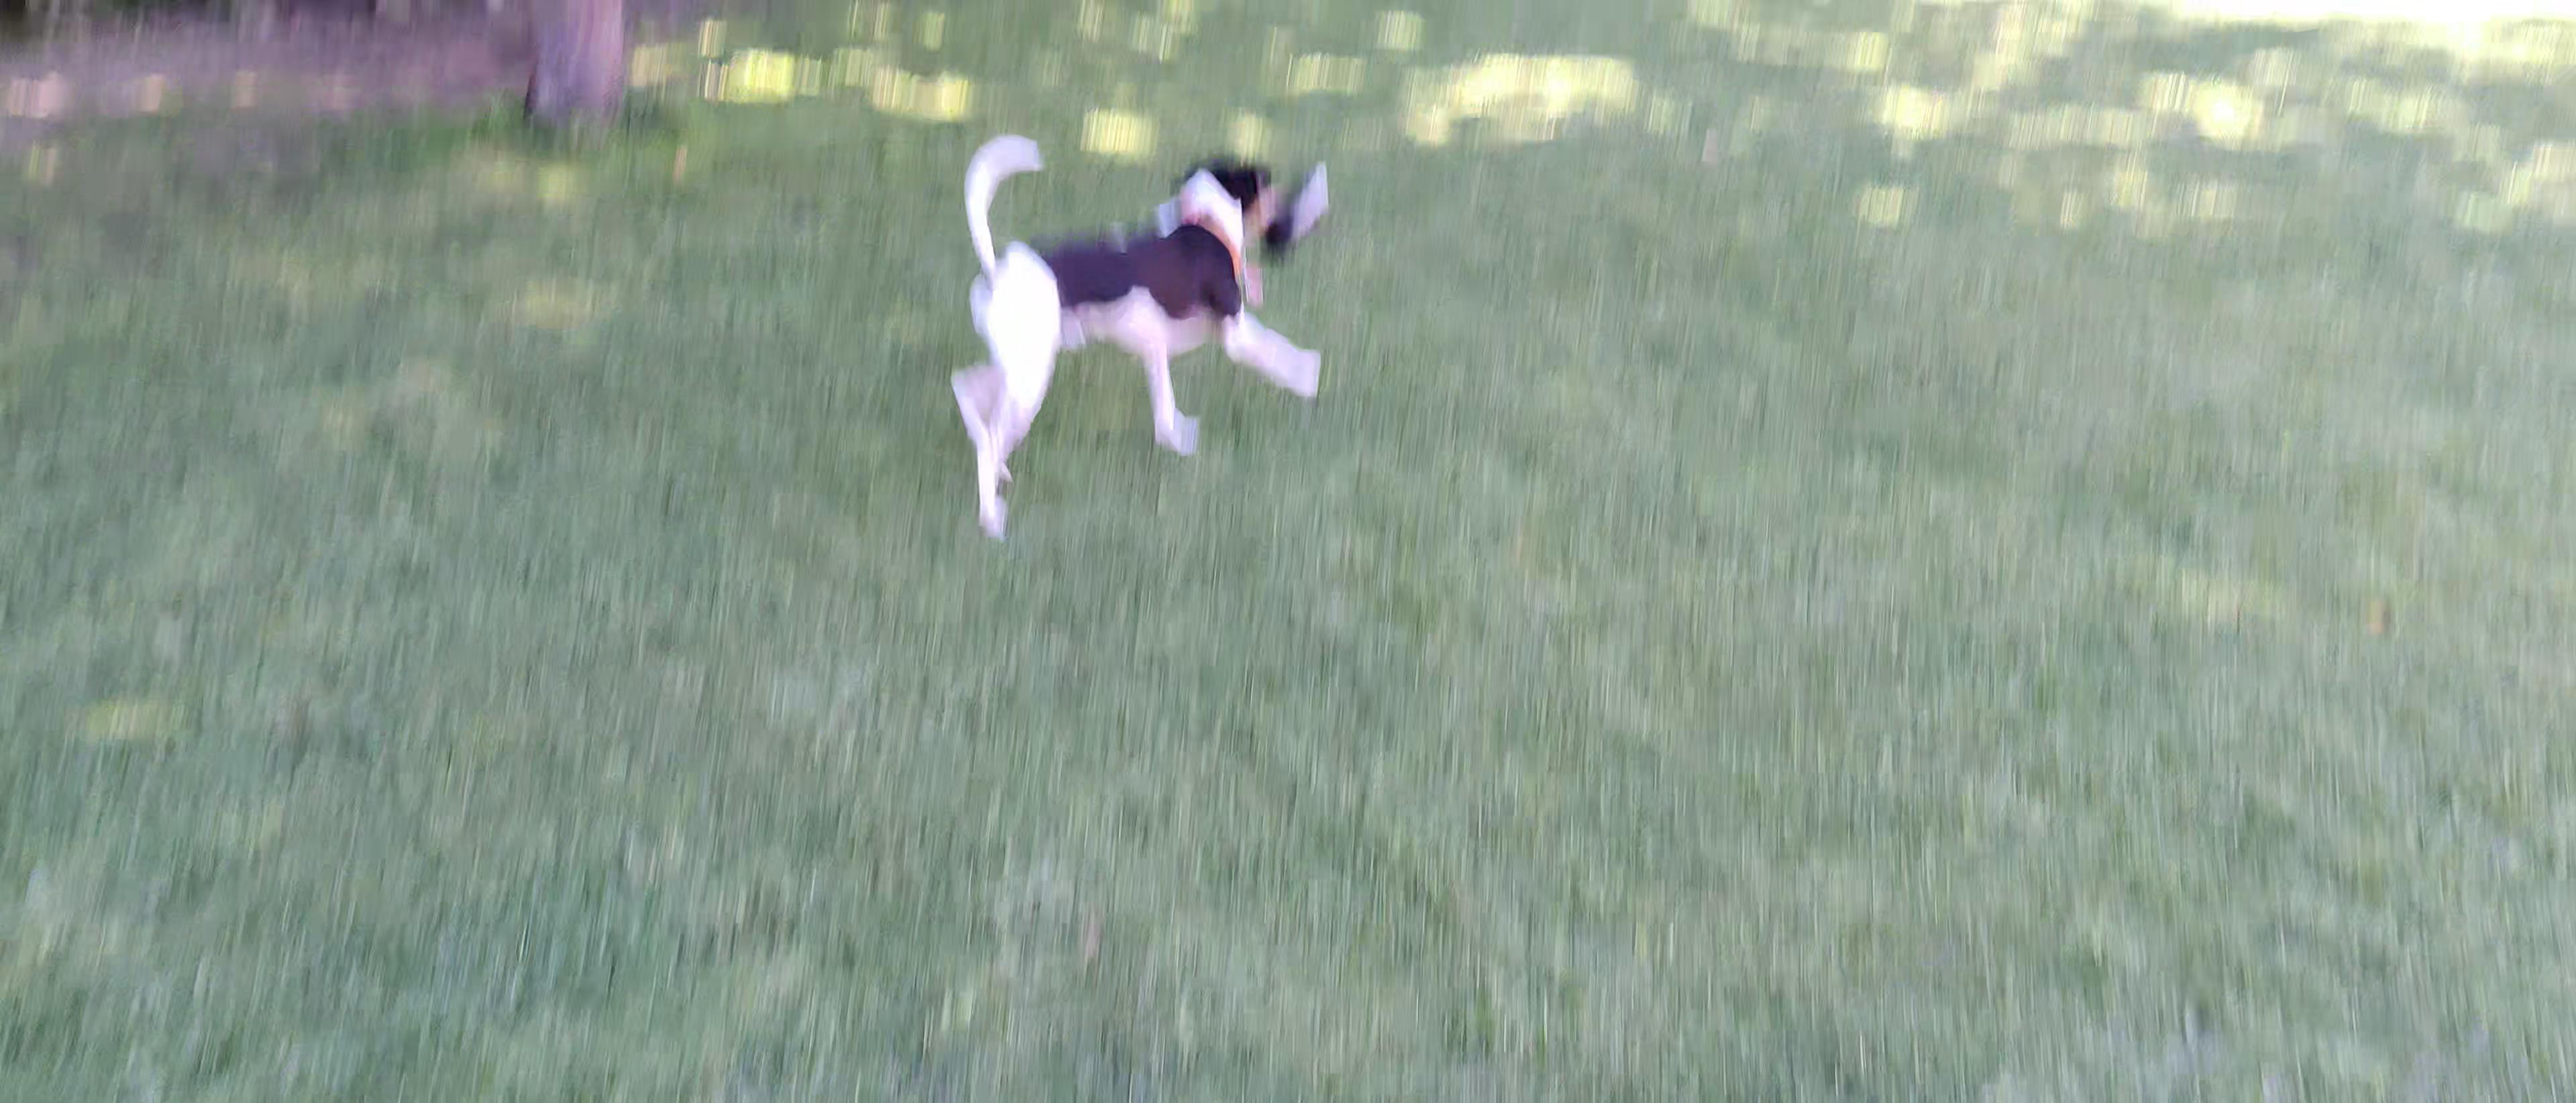Dog: (950, 127, 1322, 541)
